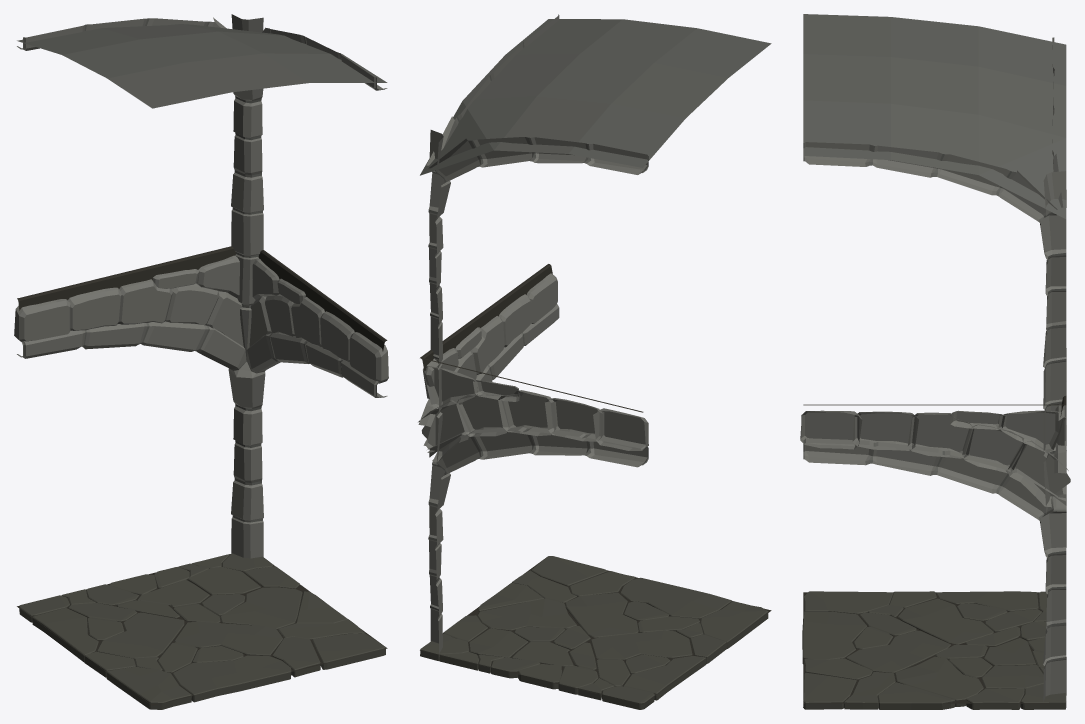
File: Dungeon_Hall_Corner.glb
The picture shows the model from 3 angles, left to right: view 1: azimuth 30°, elevation 25°; view 2: azimuth 150°, elevation 25°; view 3: azimuth 270°, elevation 25°; orthographic projection. The views are drawn at different scales.
Visible parts, largest first — view 1: Dungeon_Hall_Corner.001; view 2: Dungeon_Hall_Corner.001; view 3: Dungeon_Hall_Corner.001.
Boxes of the visible parts, x1,y1,x2,y2 form: Dungeon_Hall_Corner.001: (14,14,388,709); Dungeon_Hall_Corner.001: (418,14,771,709); Dungeon_Hall_Corner.001: (800,14,1070,709).
Bounding box in the file's own units: 4.11 × 9.82 × 4.11.
Materials: 2 (2 with a texture image).
